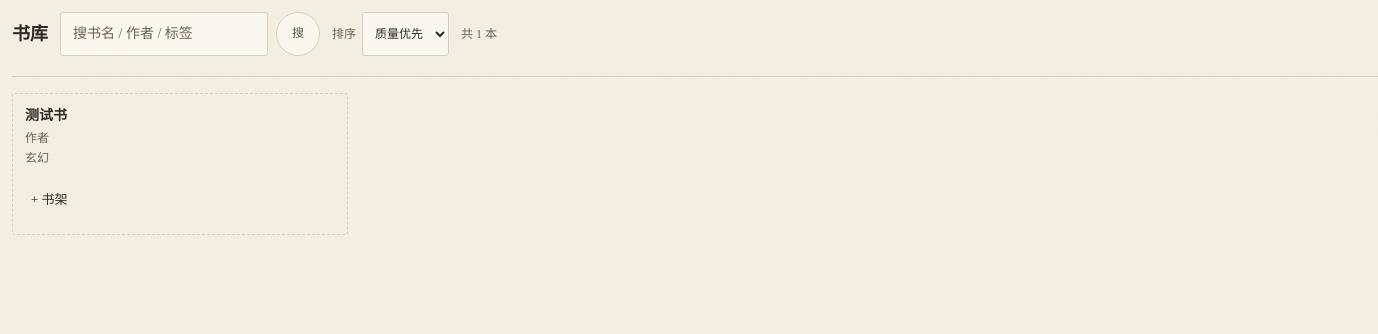
Test: LibraryTab 下载已中断（running+leaseExpired） › 活跃心跳的 running 显示「下载中」且不渲染「重试」按钮
The image size is (1378, 334).
Click the button with aria-label "查看测试书详情": coordinates (46, 116) [13,94,346,178]
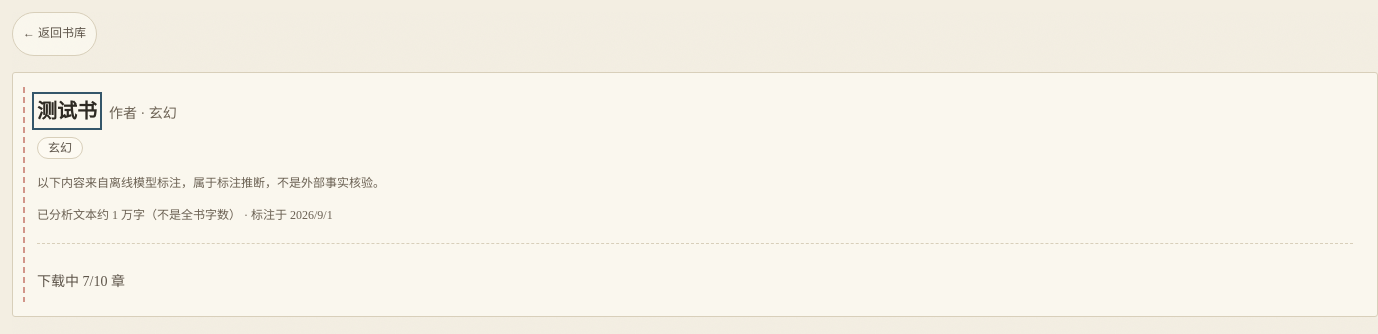
Check: the text "下载中 7/10 章" is shown, box [37,272,125,292]
